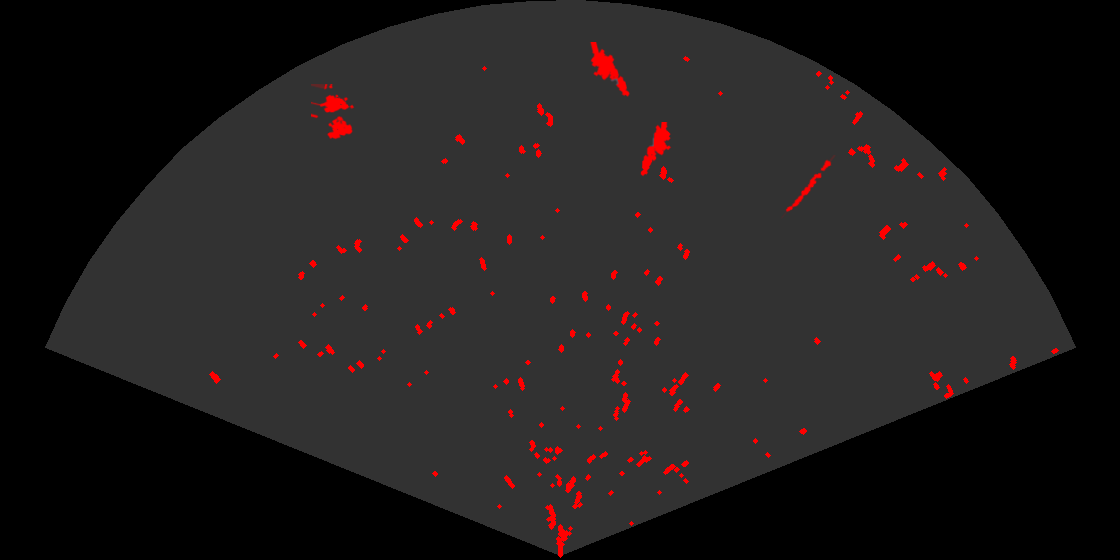cage: (311, 84, 356, 141)
chain: (781, 155, 837, 220)
frogman: (588, 42, 631, 99), (639, 122, 673, 177)
